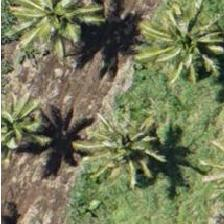coconut_tree: (79, 96, 169, 186), (148, 0, 223, 88), (0, 79, 61, 169), (13, 0, 103, 57)
